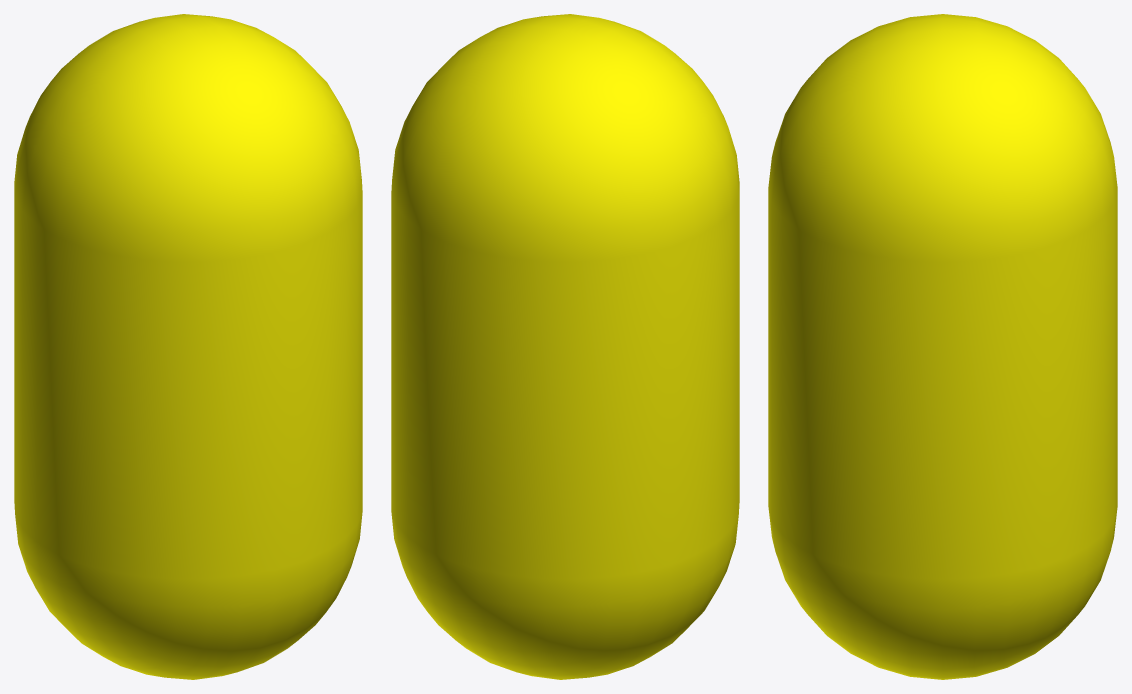
Rendered from SmallGold.fbx.
The picture shows the model from 3 angles, left to right: view 1: azimuth 30°, elevation 25°; view 2: azimuth 150°, elevation 25°; view 3: azimuth 270°, elevation 25°; orthographic projection.
Parts seen in each view (by area): view 1: SmallGold; view 2: SmallGold; view 3: SmallGold.
Boxes of the visible parts, x1=… form: SmallGold: x1=14, y1=14, x2=362, y2=679; SmallGold: x1=391, y1=14, x2=739, y2=679; SmallGold: x1=768, y1=14, x2=1117, y2=679.
Bounding box in the file's own units: 100 × 200 × 100.
